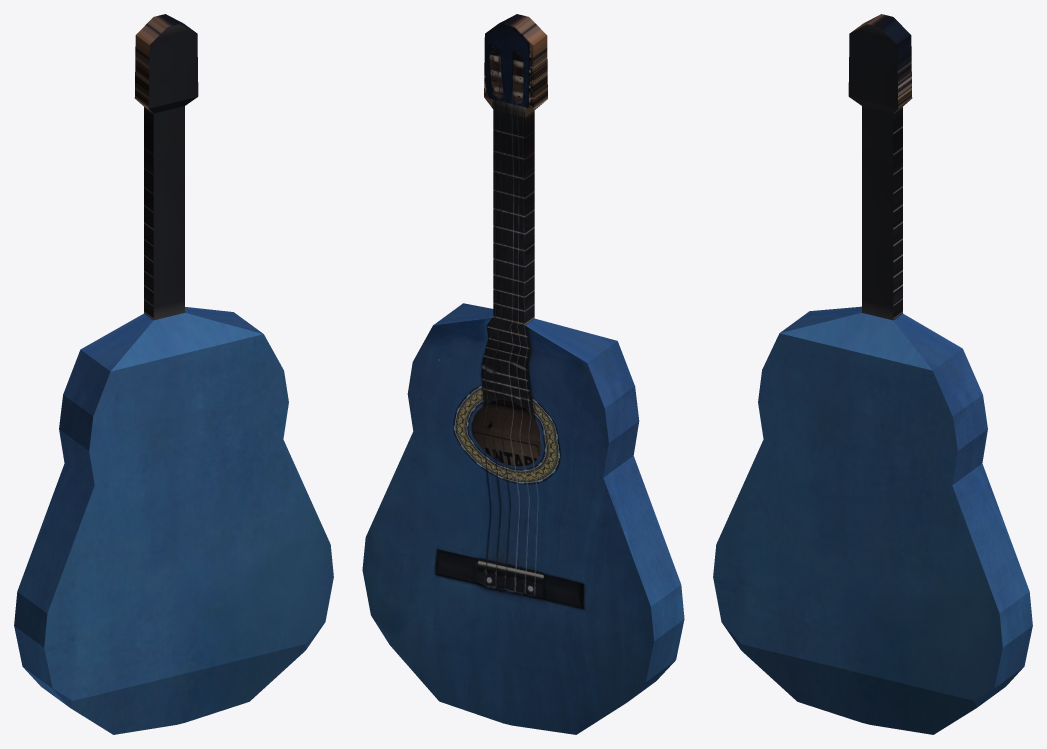
File: Guitar.fbx
3 renders of one model, left to right at view 1: azimuth 30°, elevation 25°; view 2: azimuth 150°, elevation 25°; view 3: azimuth 330°, elevation 25°, orthographic.
Visible parts, largest first — view 1: Guitare; view 2: Guitare; view 3: Guitare.
Boxes of the visible parts, <box> form: Guitare: <box>14,14,333,734</box>; Guitare: <box>362,14,684,734</box>; Guitare: <box>713,14,1032,734</box>.
Size of the model in its own units: 0.5266 by 0.0967 by 1.2.
1 material, 1 textured.
